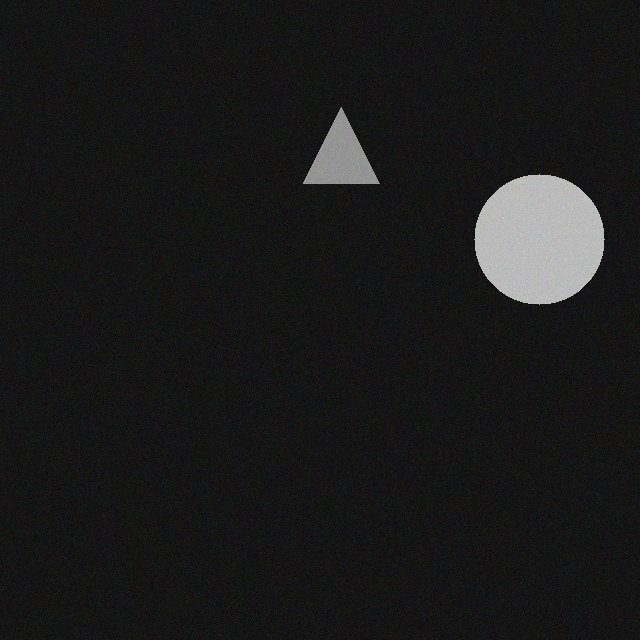circle: (482, 179, 612, 309)
triangle: (311, 112, 387, 188)
